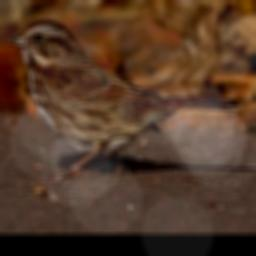Sparrow: (9, 14, 242, 183)
